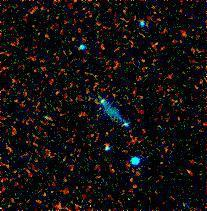star: (88, 92, 118, 122)
